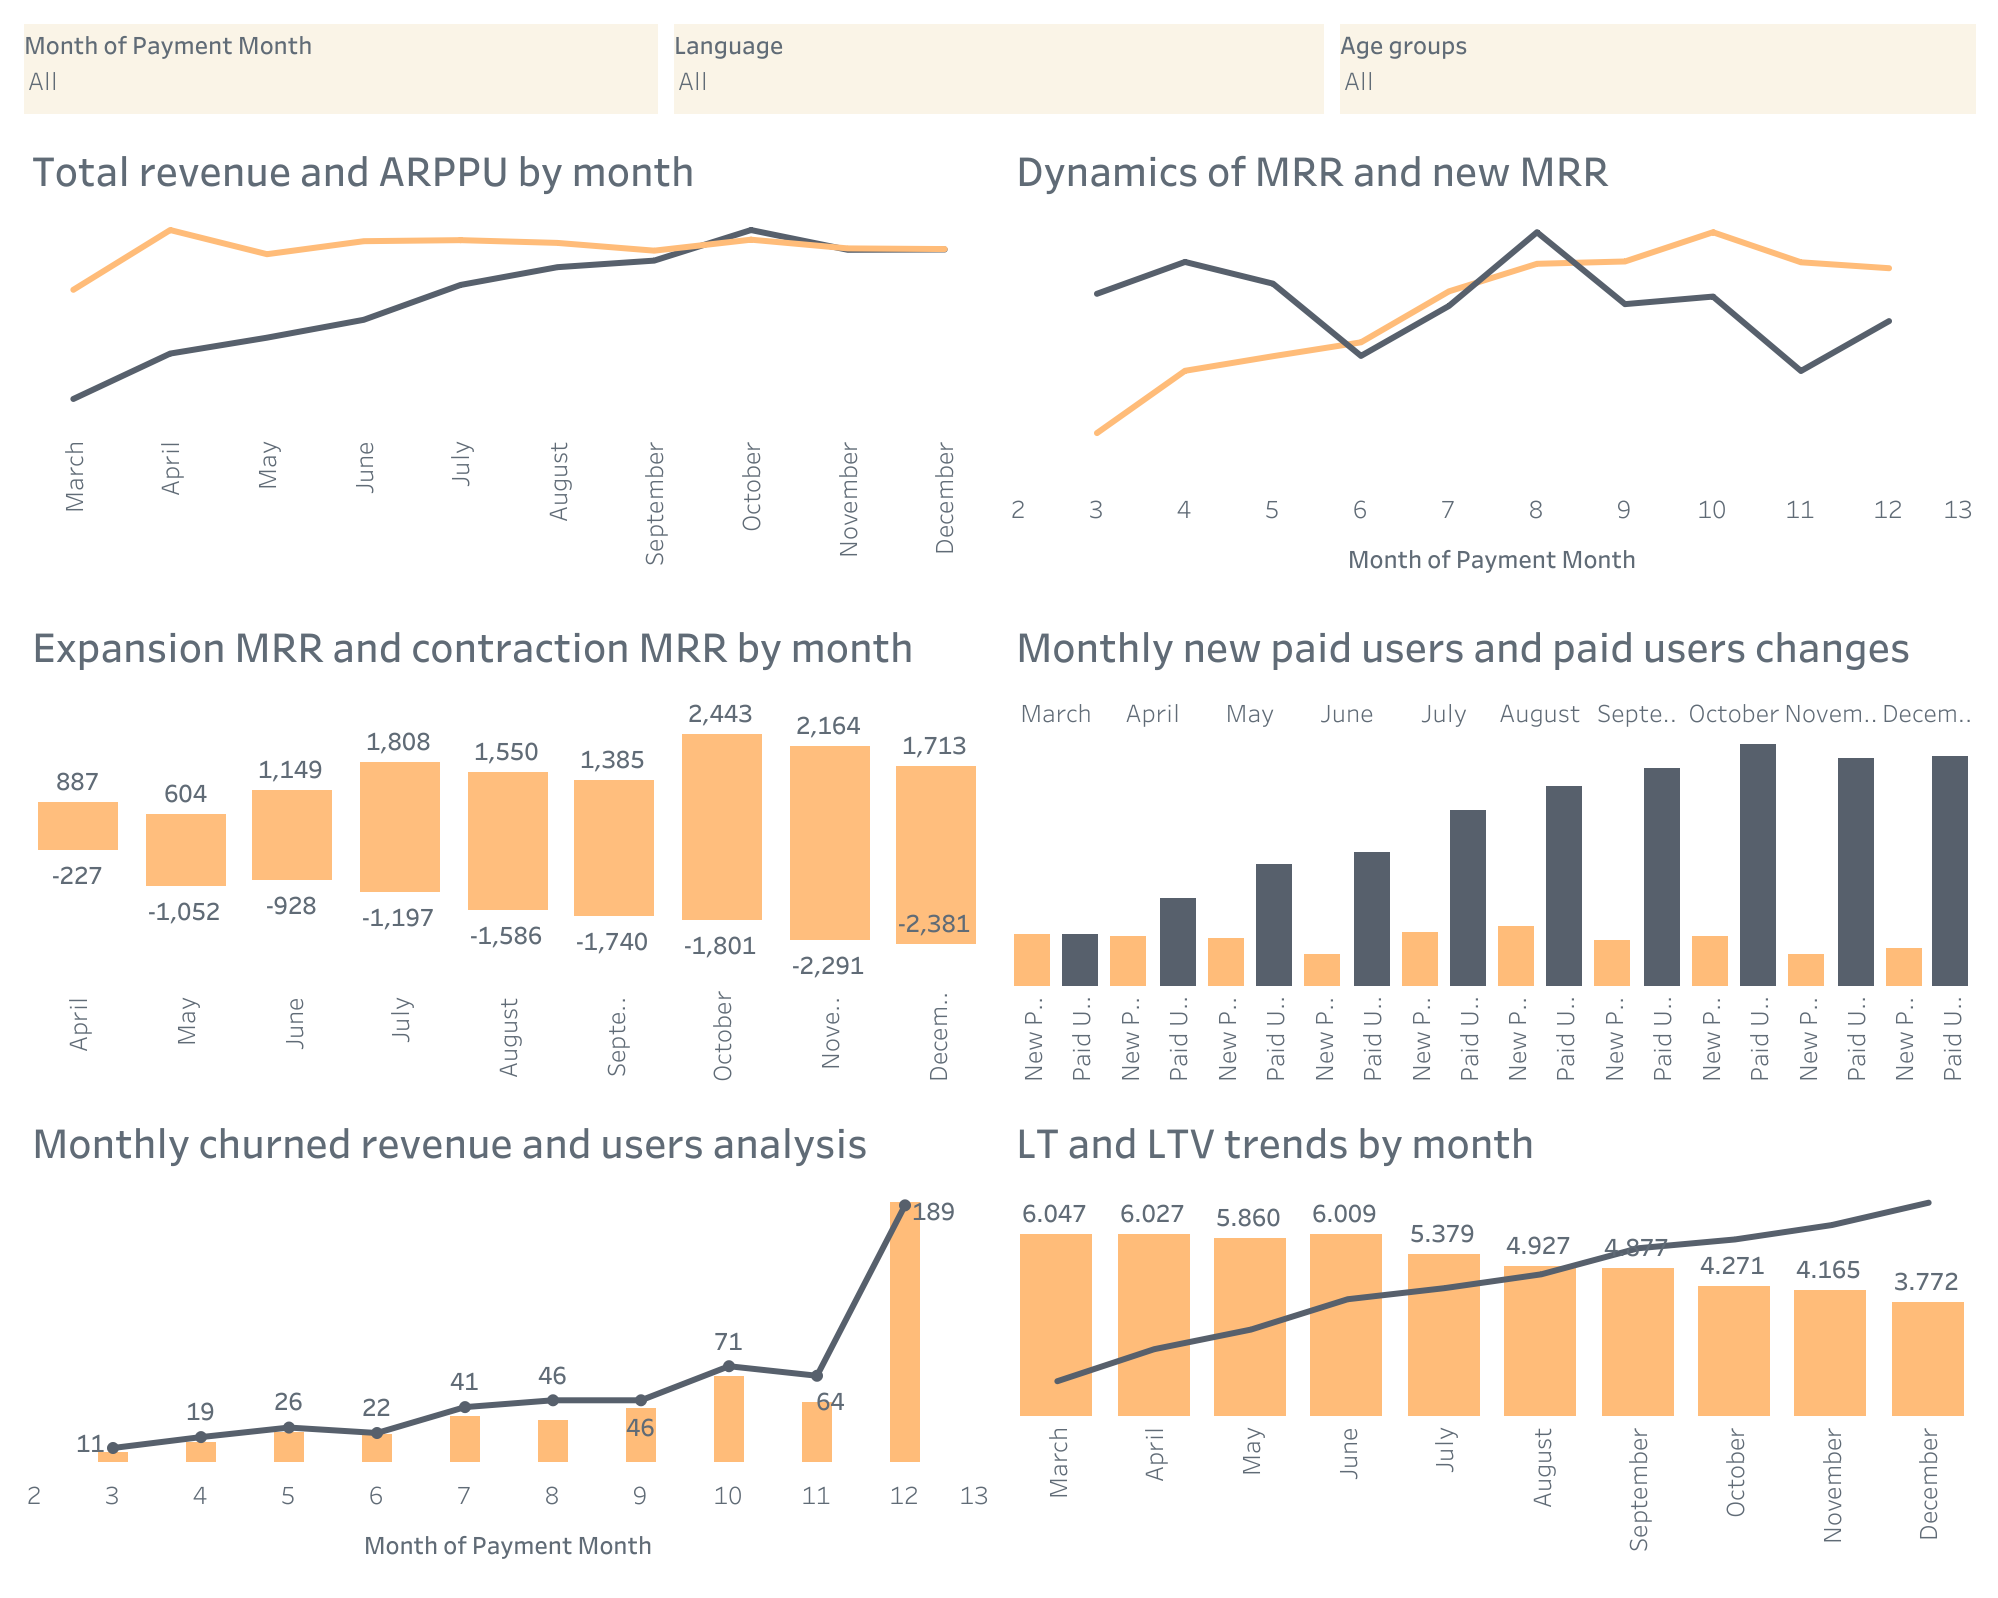

What the dashboard file says about the page in this screenshot:
{"tool":"tableau","page":{"name":"Revenue metrics","canvas":[1000,800],"ordinal":0},"visuals":[{"type":"filter","title":"Monthly new paid users and paid users changes","param":"[federated.1h8na4v1rcvgow1fw793m1fc5edh].[mn:payment_month:ok]","box":[8,8,325,53]},{"type":"filter","title":"Monthly new paid users and paid users changes","param":"[federated.1h8na4v1rcvgow1fw793m1fc5edh].[none:language:nk]","box":[333,8,333,53]},{"type":"filter","title":"Monthly new paid users and paid users changes","param":"[federated.1h8na4v1rcvgow1fw793m1fc5edh].[none:Calculation_1137862630507786241:n","box":[666,8,326,53]},{"type":"worksheet","title":"Total revenue and ARPPU by month","mark":"Automatic","rows":["total_revenue","arppu"],"cols":["payment_month"],"box":[8,61,491.9,238]},{"type":"worksheet","title":"Dynamics of MRR and new MRR","mark":"Automatic","rows":["mrr","new_mrr"],"cols":["payment_month"],"box":[499.9,61,492.1,238]},{"type":"worksheet","title":"Expansion MRR and contraction MRR by month","mark":"Bar","rows":["expansion_mrr","contraction_mrr"],"cols":["payment_month"],"box":[8,299,491.9,248]},{"type":"worksheet","title":"Monthly new paid users and paid users changes","mark":"Bar","cols":["payment_month"],"box":[499.9,299,492.1,248]},{"type":"worksheet","title":"Monthly churned revenue and users analysis","mark":"Automatic","rows":["churned_revenue","churned_users"],"cols":["payment_month"],"box":[8,547,491.9,245]},{"type":"worksheet","title":"LT and LTV trends by month","mark":"Automatic","rows":["lt","ltv"],"cols":["payment_month"],"box":[499.9,547,492.1,245]}]}

Visuals, with their boxes in screenshot pixels (x1, y1, x2, y2), scaled from the page's 1000x800 canvas onto the 1998x1598 screenshot:
"Monthly new paid users and paid users changes" filter: crop(16, 16, 665, 122)
"Monthly new paid users and paid users changes" filter: crop(665, 16, 1331, 122)
"Monthly new paid users and paid users changes" filter: crop(1331, 16, 1982, 122)
"Total revenue and ARPPU by month" worksheet: crop(16, 122, 999, 597)
"Dynamics of MRR and new MRR" worksheet: crop(999, 122, 1982, 597)
"Expansion MRR and contraction MRR by month" worksheet (Bar marks): crop(16, 597, 999, 1093)
"Monthly new paid users and paid users changes" worksheet (Bar marks): crop(999, 597, 1982, 1093)
"Monthly churned revenue and users analysis" worksheet: crop(16, 1093, 999, 1582)
"LT and LTV trends by month" worksheet: crop(999, 1093, 1982, 1582)
